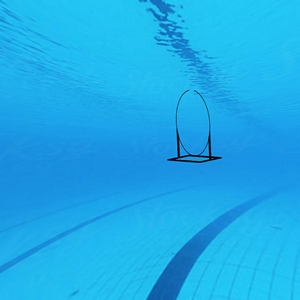circle: (166, 88, 223, 167)
